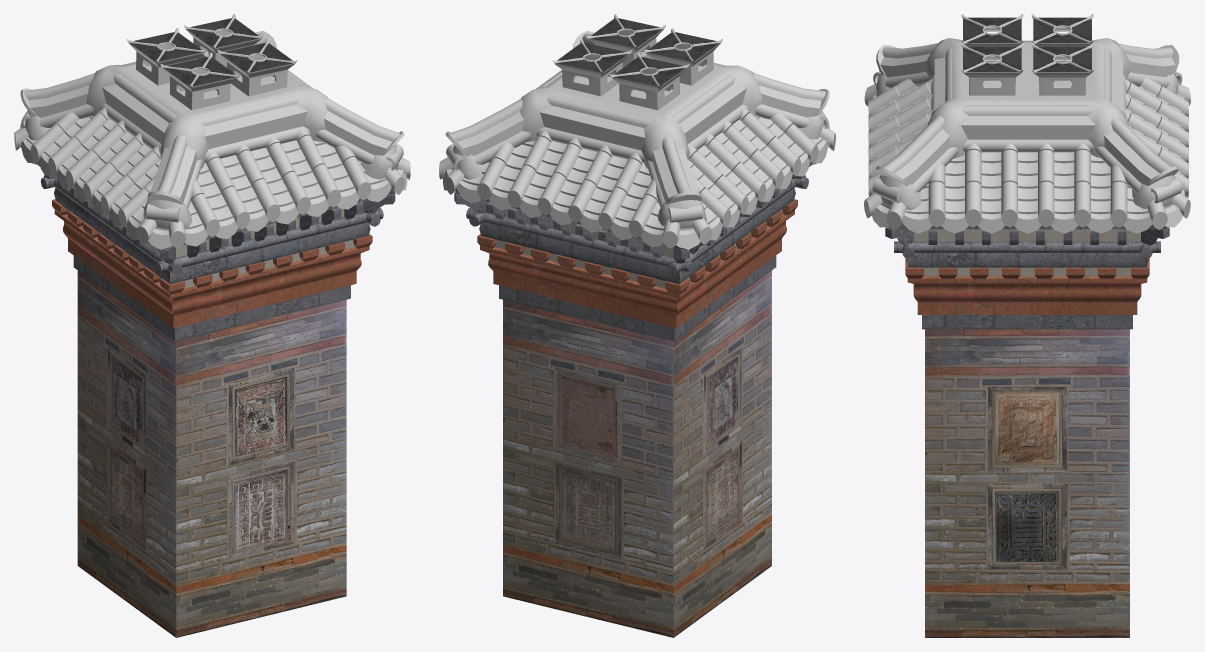
File: SM_Chimney04A.fbx
3 renders of one model, left to right at view 1: azimuth 30°, elevation 25°; view 2: azimuth 150°, elevation 25°; view 3: azimuth 270°, elevation 25°, orthographic. The views are drawn at different scales.
Visible parts, largest first — view 1: SM_Chimney04A; view 2: SM_Chimney04A; view 3: SM_Chimney04A.
Boxes of the visible parts, x1,y1,x2,y2 form: SM_Chimney04A: [14, 14, 410, 637]; SM_Chimney04A: [439, 14, 835, 637]; SM_Chimney04A: [864, 14, 1190, 637].
Size of the model in its own units: 191 by 192 by 358.
